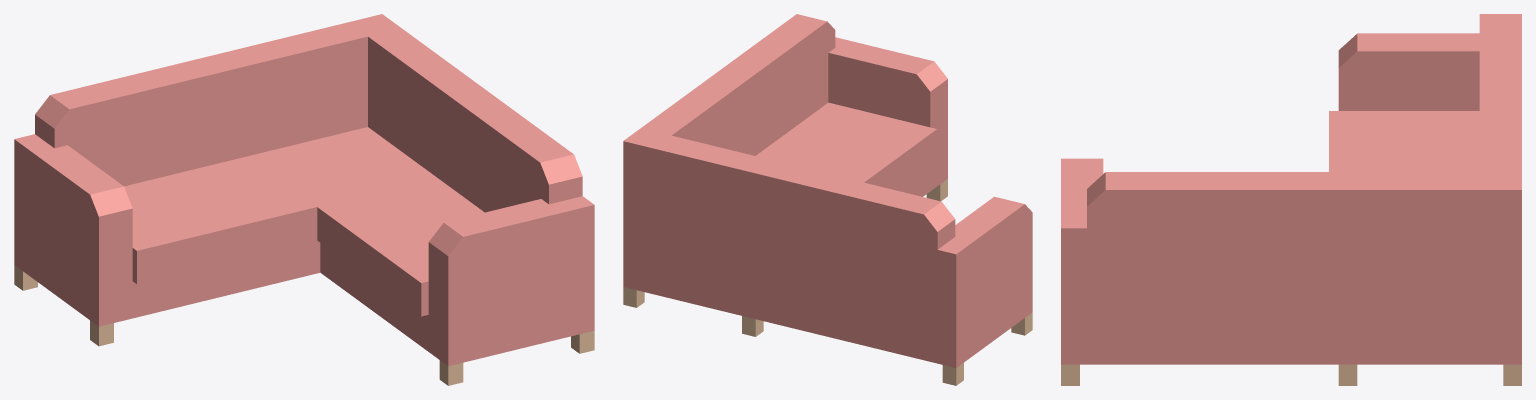
Rendered from loungeSofaCorner.glb.
3 renders of one model, left to right at view 1: azimuth 30°, elevation 25°; view 2: azimuth 150°, elevation 25°; view 3: azimuth 270°, elevation 25°, orthographic. The views are drawn at different scales.
Parts seen in each view (by area): view 1: loungeSofaCorner(Clone); view 2: loungeSofaCorner(Clone); view 3: loungeSofaCorner(Clone).
Part boxes in pixels (<box>): loungeSofaCorner(Clone): <box>14,14,594,385</box>; loungeSofaCorner(Clone): <box>623,14,1032,385</box>; loungeSofaCorner(Clone): <box>1061,14,1521,385</box>.
Bounding box in the file's own units: 0.98 × 0.46 × 0.98.
